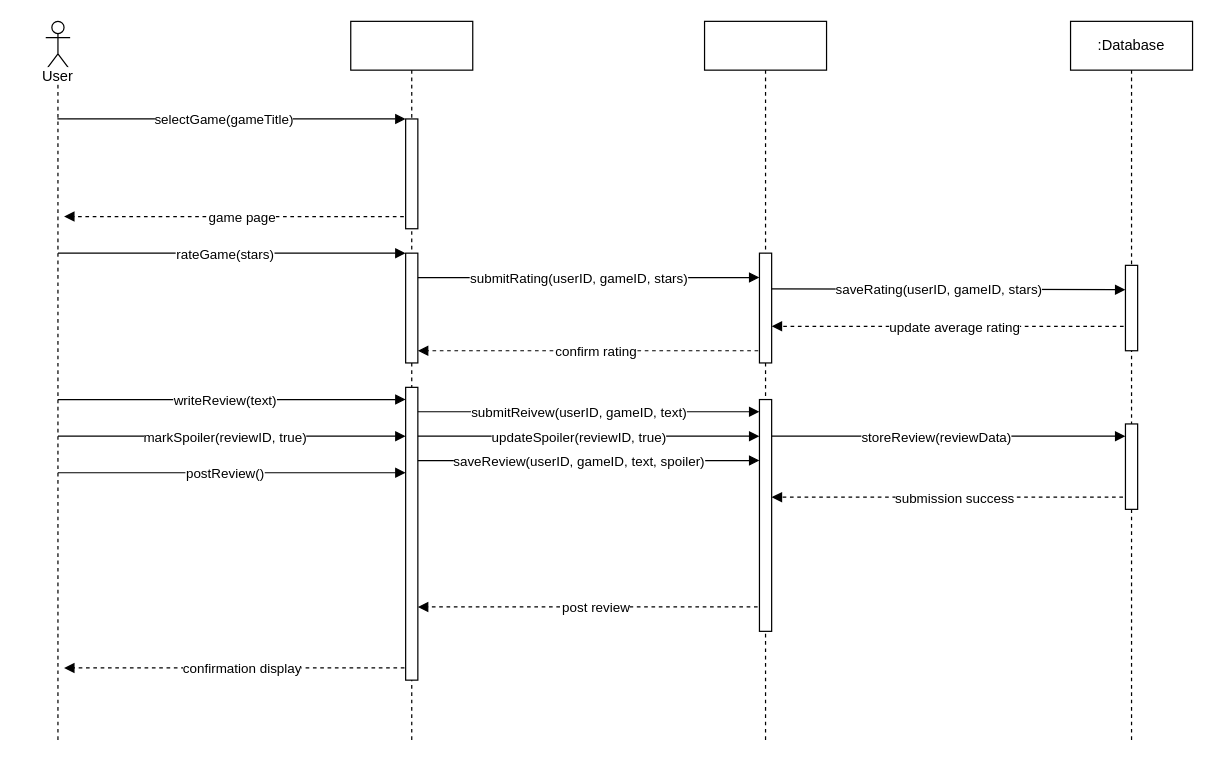
This 1214x763 diagram has some shape labels left out. Here are the shapes that lost their labels. From the top down, the box of each, then its label:
(350, 20, 473, 741): :UIInterface
(703, 20, 827, 741): :Controller
